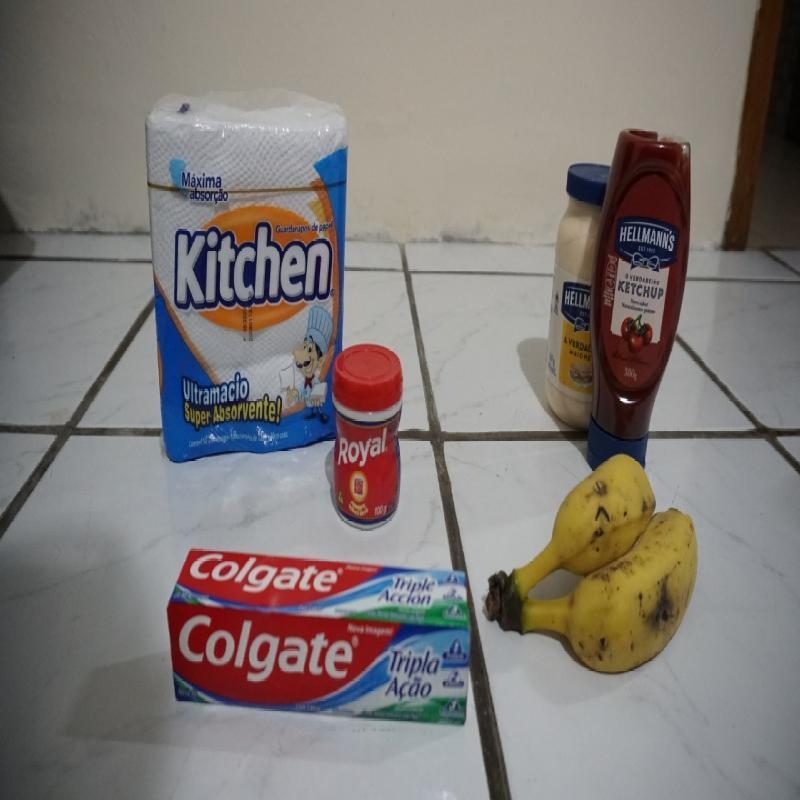Banana: (486, 452, 697, 676)
Ketchup: (585, 128, 692, 479)
Mayonnaise: (545, 159, 610, 438)
Napkin: (144, 91, 350, 463)
Toothpaste: (164, 549, 472, 729)
Yeast: (332, 341, 405, 526)
